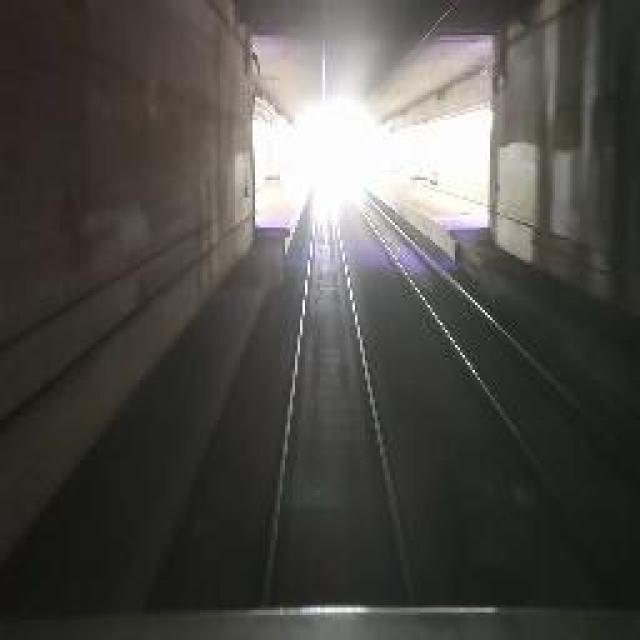rail: (219, 174, 440, 609)
